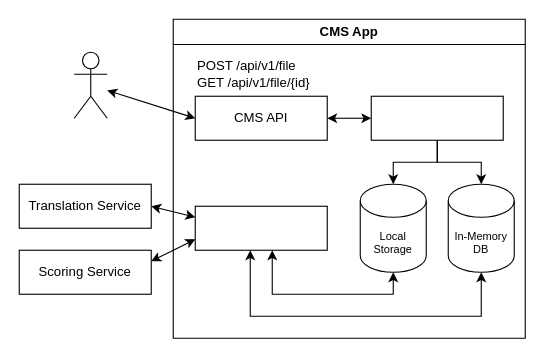
The diagram is 545 pixels wide and 358 high, and some of its shapes have lost their labels. Each missing label, with the box of its shape:
Actor: (73, 51, 107, 118)
CMS File Service: (370, 95, 503, 140)
CMS Processing Service: (194, 205, 327, 250)
